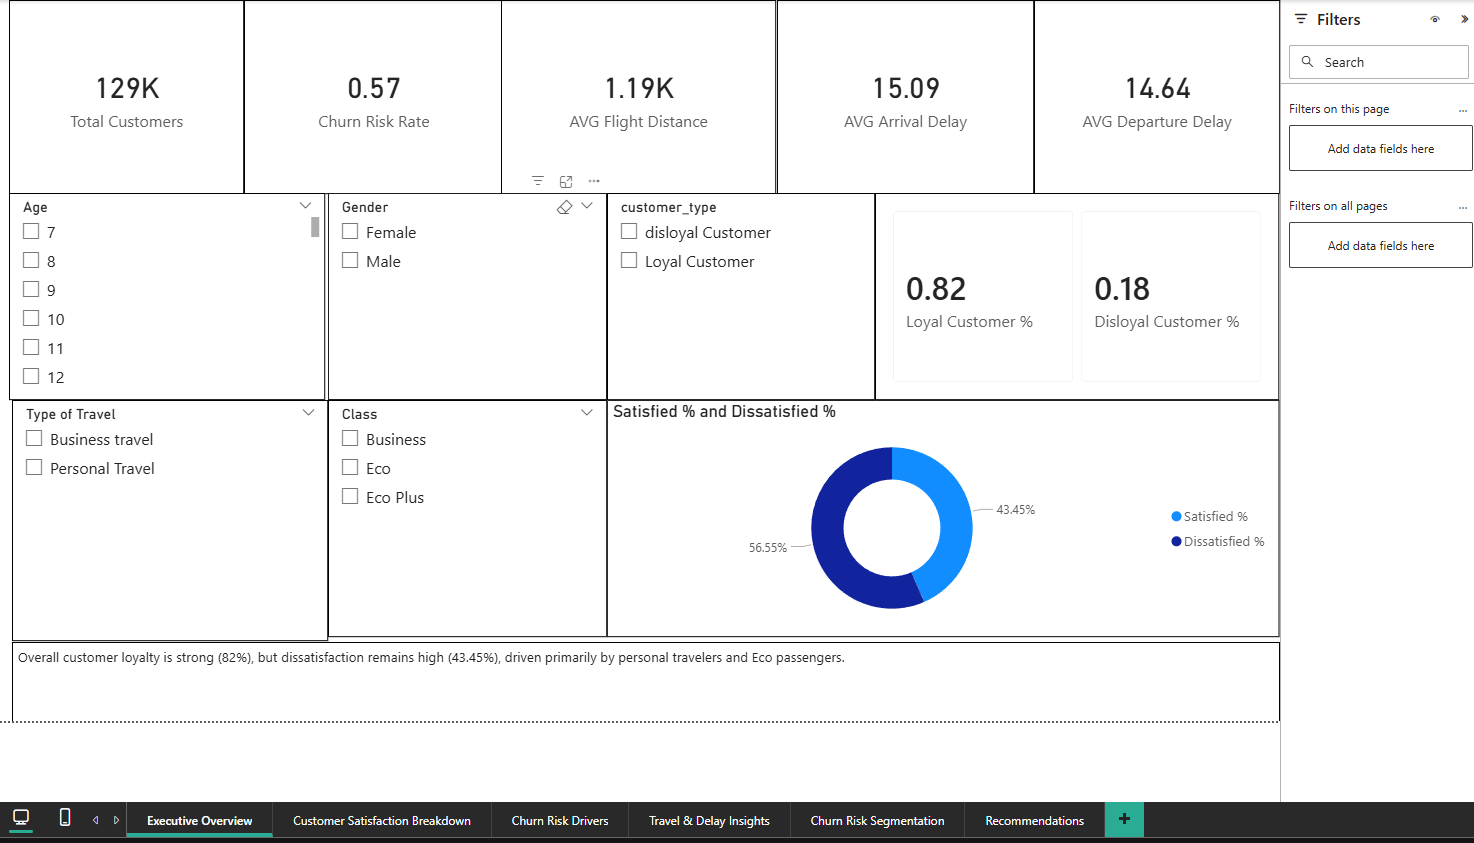

The dashboard page shown, as its layout file describes it:
{"tool":"powerbi","page":{"name":"Executive Overview","canvas":[1280,720],"ordinal":0},"visuals":[{"type":"card","fields":{"Values":["flight_customer.Total Customers"]},"box":[9.7,0,235.4,193.6],"z":0},{"type":"donutChart","fields":{"Y":["flight_customer.Satisfied %","flight_customer.Dissatisfied %"]},"box":[607.5,400.1,672.5,236.7],"z":1000},{"type":"card","fields":{"Values":["flight_customer.Churn Risk Rate"]},"box":[245.1,0,259.7,193.6],"z":2000},{"type":"card","fields":{"Values":["flight_customer.AVG Flight Distance"]},"box":[501.9,0,275.3,193.6],"z":3000},{"type":"card","fields":{"Values":["flight_customer.AVG Arrival Delay"]},"box":[777.1,0,256.8,193.6],"z":4000},{"type":"card","fields":{"Values":["flight_customer.AVG Departure Delay"]},"box":[1033.9,0,246.1,193.6],"z":5000},{"type":"slicer","fields":{"Values":["flight_customer.age"]},"box":[10.5,192.7,316.3,207.4],"z":6000},{"type":"slicer","fields":{"Values":["flight_customer.type_of_travel"]},"box":[12.6,400.1,316.3,240.9],"z":7000},{"type":"slicer","fields":{"Values":["flight_customer.gender"]},"box":[328.9,192.7,278.6,207.4],"z":8000},{"type":"slicer","fields":{"Values":["flight_customer.class"]},"box":[328.9,400.1,278.6,236.7],"z":9000},{"type":"slicer","fields":{"Values":["flight_customer.customer_type"]},"box":[607.5,192.7,268.2,207.4],"z":10001},{"type":"cardVisual","fields":{"Data":["flight_customer.Loyal Customer %","flight_customer.Disloyal Customer %"]},"box":[875.7,192.7,404.3,207.4],"z":10002},{"type":"textbox","box":[12.6,641,1267.4,79.6],"z":10003}]}

Visuals, with their boxes on the page's 1280x720 design canvas (x1, y1, x2, y2). These are canvas units, not pixel positions in the 1474x843 screenshot, which may show the page scaled, cropped or inside an application window:
card - flight_customer.Total Customers: {"left": 10, "top": 0, "right": 245, "bottom": 194}
donutChart - flight_customer.Satisfied % x flight_customer.Dissatisfied %: {"left": 608, "top": 400, "right": 1280, "bottom": 637}
card - flight_customer.Churn Risk Rate: {"left": 245, "top": 0, "right": 505, "bottom": 194}
card - flight_customer.AVG Flight Distance: {"left": 502, "top": 0, "right": 777, "bottom": 194}
card - flight_customer.AVG Arrival Delay: {"left": 777, "top": 0, "right": 1034, "bottom": 194}
card - flight_customer.AVG Departure Delay: {"left": 1034, "top": 0, "right": 1280, "bottom": 194}
slicer - flight_customer.age: {"left": 10, "top": 193, "right": 327, "bottom": 400}
slicer - flight_customer.type_of_travel: {"left": 13, "top": 400, "right": 329, "bottom": 641}
slicer - flight_customer.gender: {"left": 329, "top": 193, "right": 608, "bottom": 400}
slicer - flight_customer.class: {"left": 329, "top": 400, "right": 608, "bottom": 637}
slicer - flight_customer.customer_type: {"left": 608, "top": 193, "right": 876, "bottom": 400}
cardVisual - flight_customer.Loyal Customer % x flight_customer.Disloyal Customer %: {"left": 876, "top": 193, "right": 1280, "bottom": 400}
textbox: {"left": 13, "top": 641, "right": 1280, "bottom": 721}
